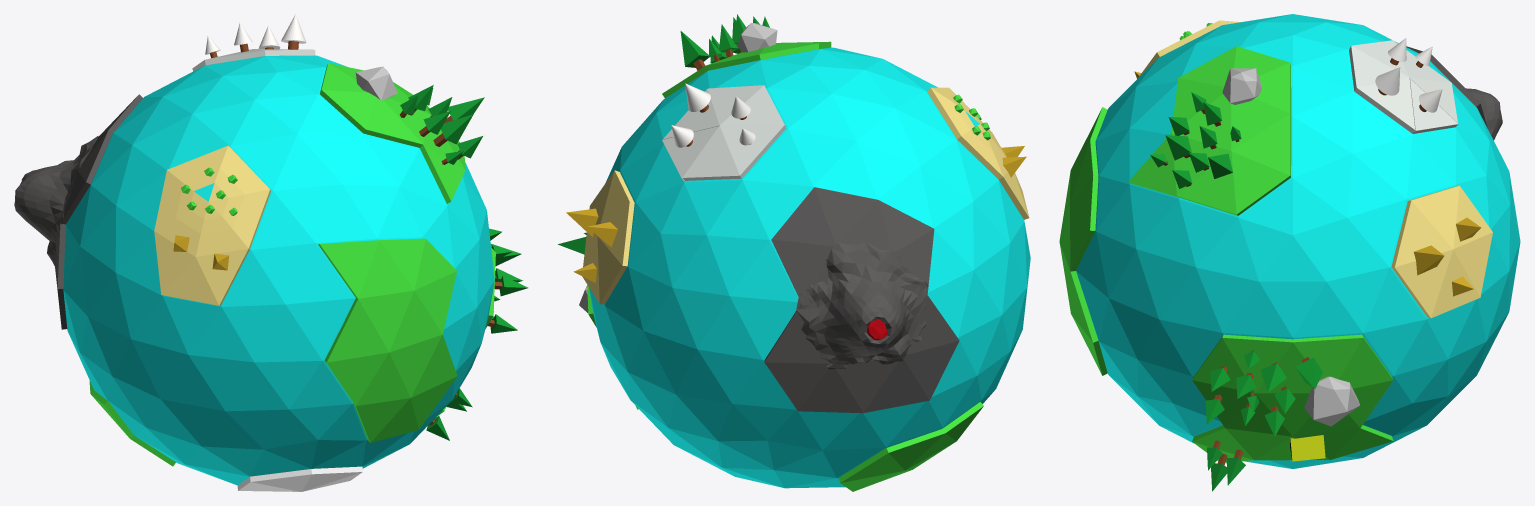
File: Earth.glb
3 renders of one model, left to right at view 1: azimuth 30°, elevation 25°; view 2: azimuth 150°, elevation 25°; view 3: azimuth 270°, elevation 25°, orthographic. The views are drawn at different scales.
Visible parts, largest first — view 1: Icosphere.011; view 2: Icosphere.011; view 3: Icosphere.011.
Boxes of the visible parts, x1,y1,x2,y2 form: Icosphere.011: [14, 14, 528, 491]; Icosphere.011: [558, 14, 1030, 491]; Icosphere.011: [1059, 14, 1520, 491].
Size of the model in its own units: 2.39 by 2.16 by 2.15.
